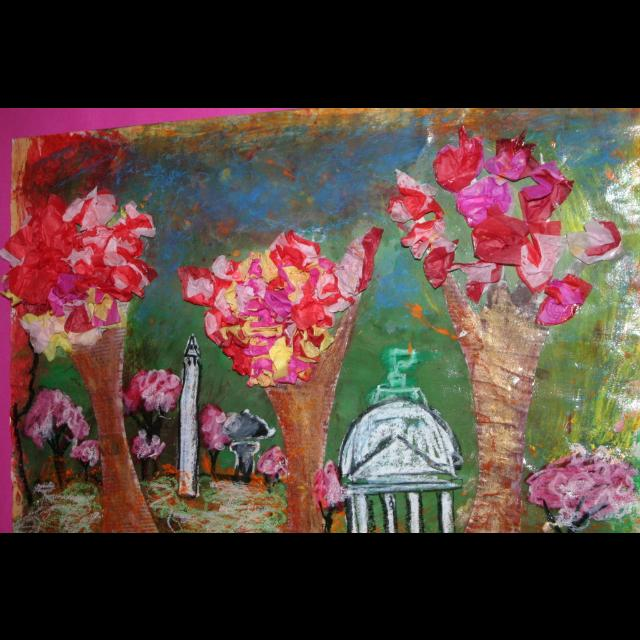Flower: (434, 123, 624, 324), (180, 227, 374, 385), (0, 186, 158, 362), (524, 444, 638, 532), (198, 404, 290, 476), (22, 385, 100, 467), (470, 218, 538, 268), (421, 240, 475, 294), (386, 171, 440, 223), (130, 370, 180, 420), (399, 214, 449, 260), (129, 426, 169, 456)
